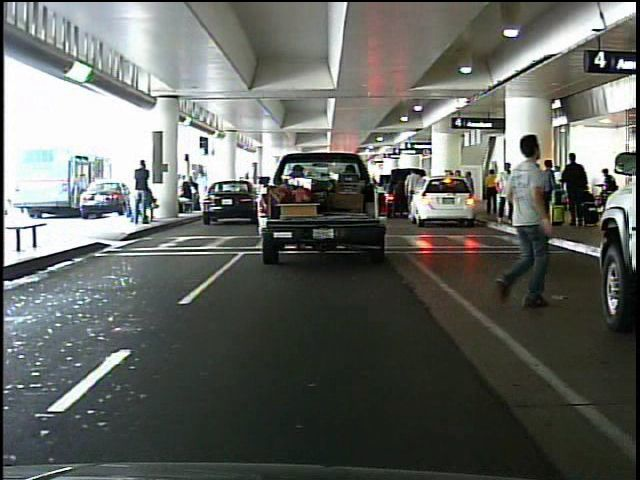person: (479, 118, 562, 325), (563, 143, 591, 231), (492, 157, 523, 229), (131, 157, 155, 227), (538, 152, 556, 231), (402, 165, 425, 221), (598, 164, 621, 193)
